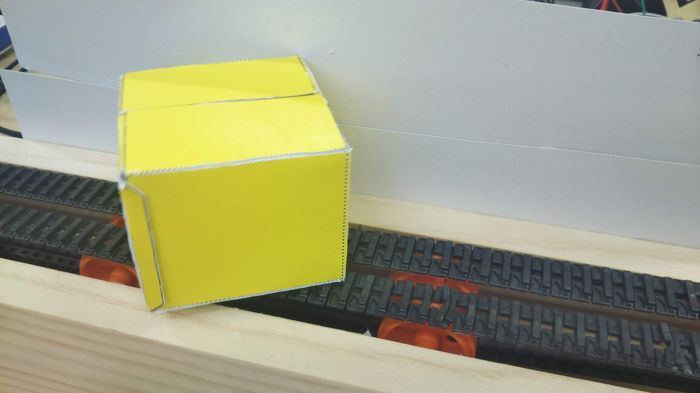box4: (112, 51, 354, 315)
